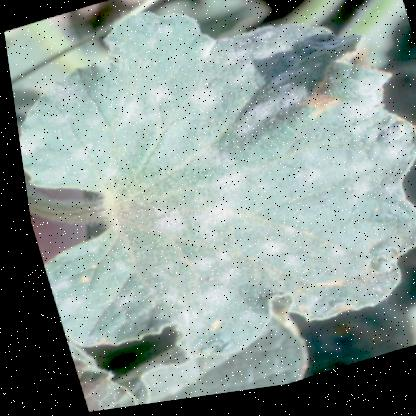PowderyMildew: (55, 0, 395, 353)
